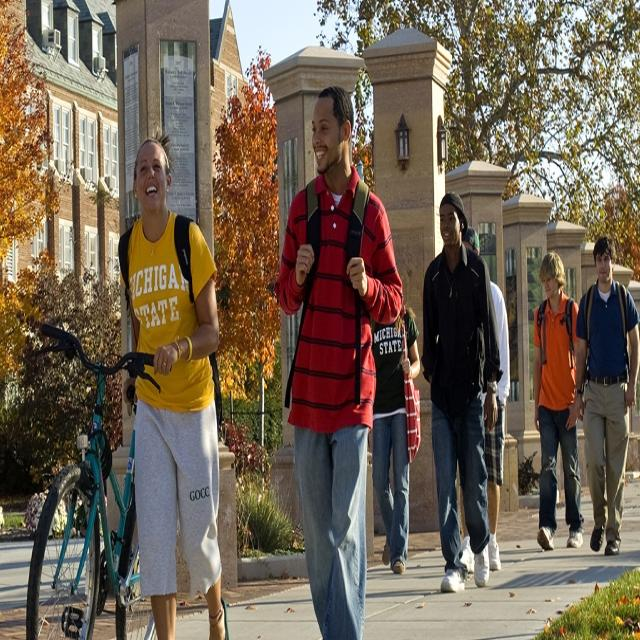body: (268, 79, 406, 639), (115, 123, 232, 639), (418, 186, 507, 597), (570, 230, 640, 560), (458, 223, 514, 578), (530, 246, 590, 554), (371, 302, 423, 576)
